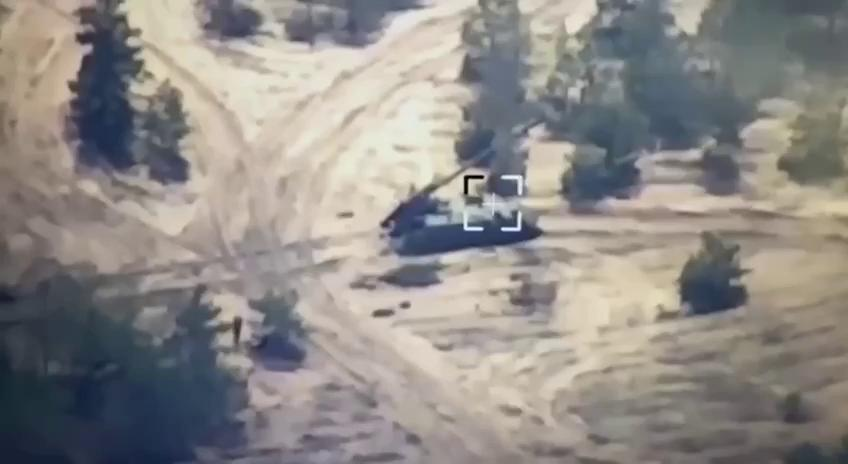tank: (380, 125, 545, 262)
